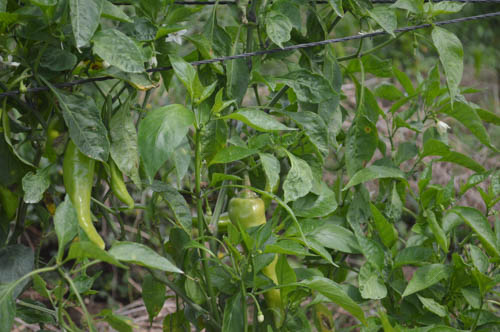ChiliPepper: (226, 194, 277, 297), (61, 145, 101, 247)
